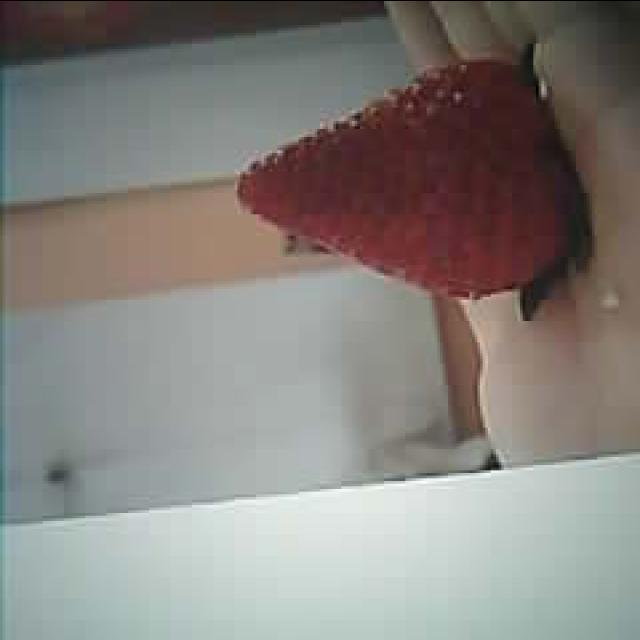ripe: (232, 60, 565, 300)
